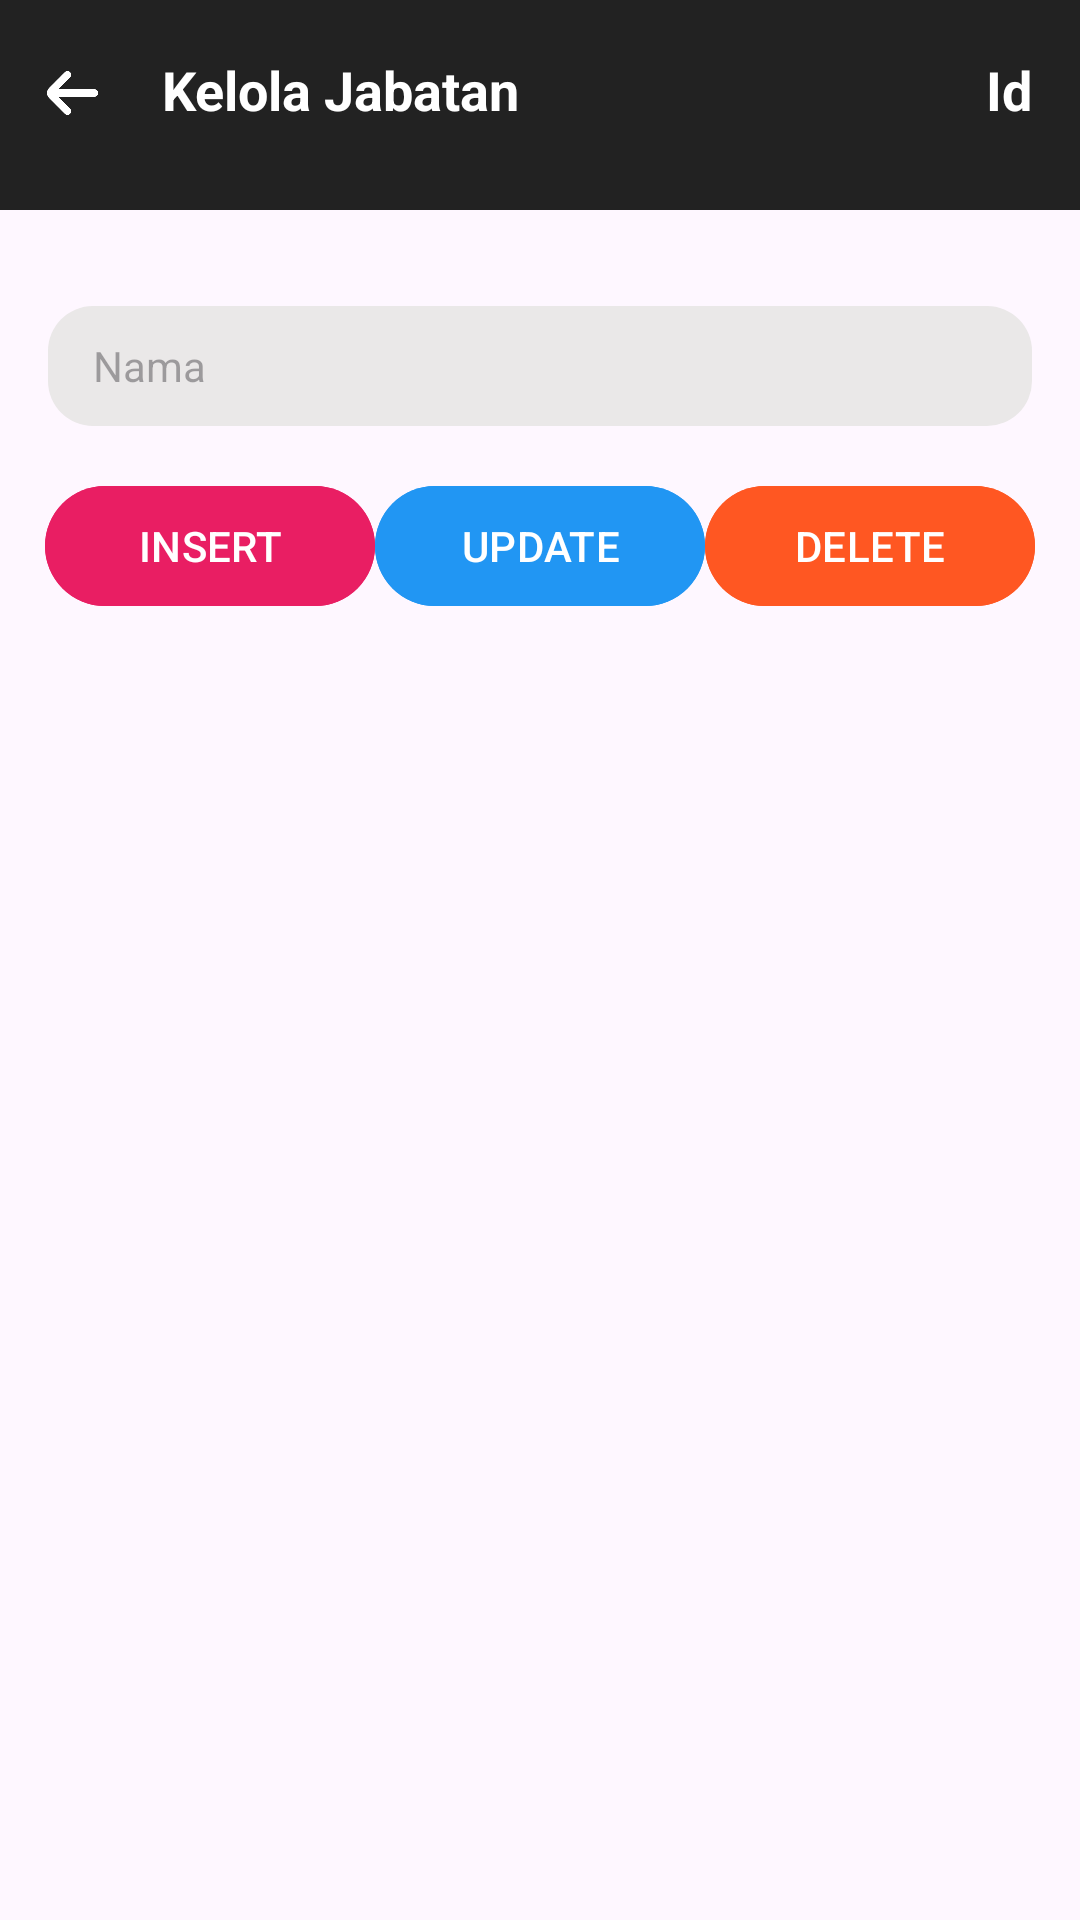

Where icons sit on this 1080×1920 app screen, as bbox(x1, y1, x2, y2):
arrow: bbox(47, 71, 98, 115)
